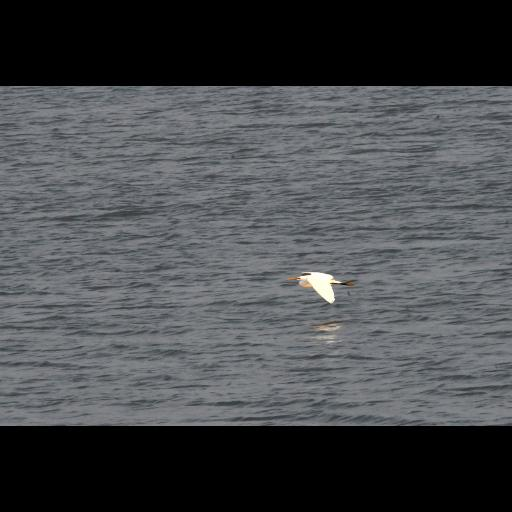chinese_egret: (286, 271, 354, 305)
